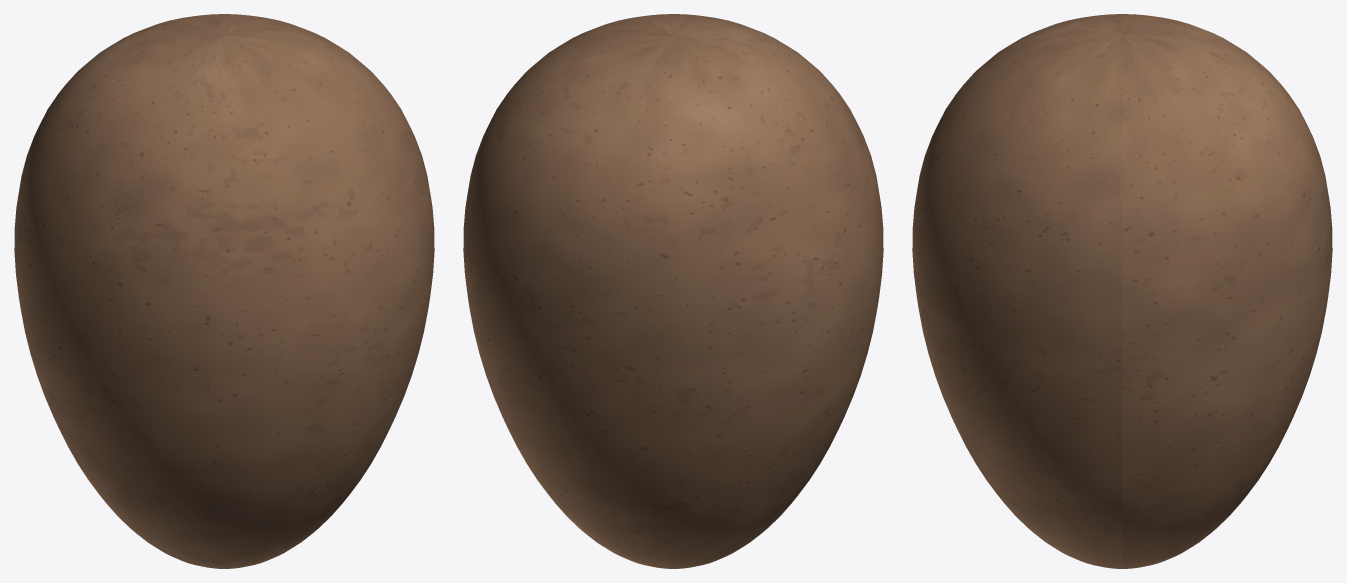
The model's file is huevo_pardo.glb.
3 views of the same model, side by side, from view 1: azimuth 30°, elevation 25°; view 2: azimuth 150°, elevation 25°; view 3: azimuth 270°, elevation 25° (orthographic).
Parts seen in each view (by area): view 1: HuevoPardo; view 2: HuevoPardo; view 3: HuevoPardo.
Boxes of the visible parts, <box> form: HuevoPardo: <box>14,14,434,568</box>; HuevoPardo: <box>463,14,883,568</box>; HuevoPardo: <box>912,14,1332,568</box>.
Size of the model in its own units: 0.0415 by 0.057 by 0.0415.
1 material, 1 textured.
